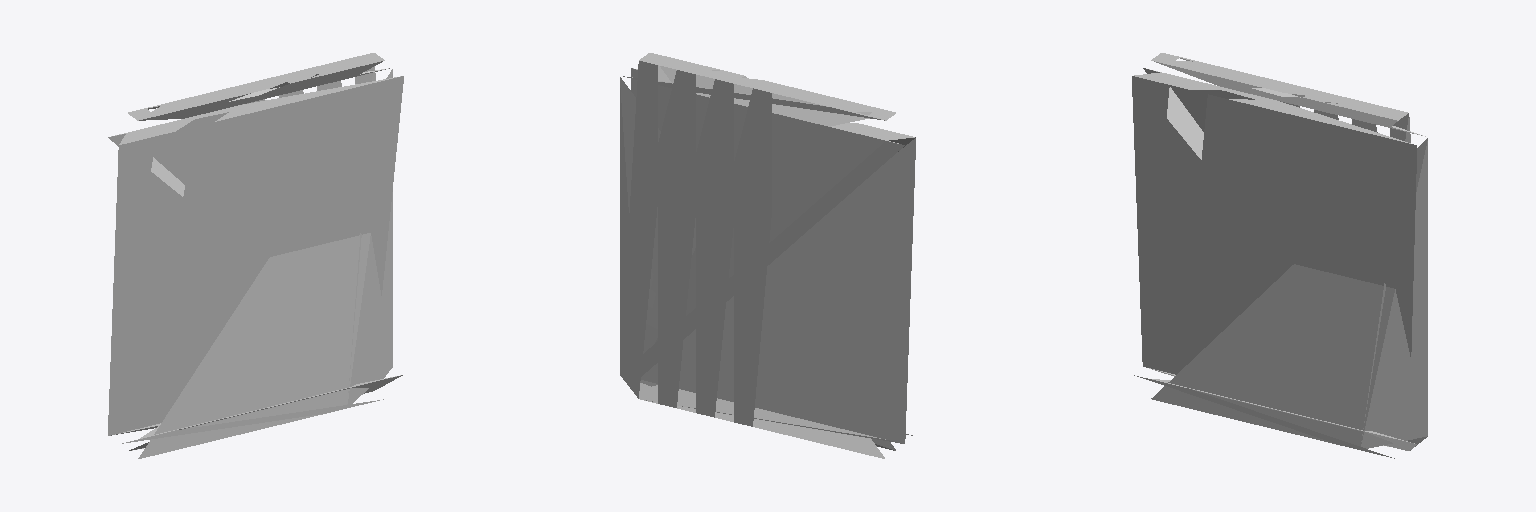
The model's file is Wall Art 2.obj.
The picture shows the model from 3 angles: view 1: azimuth 30°, elevation 25°; view 2: azimuth 150°, elevation 25°; view 3: azimuth 330°, elevation 25°; orthographic projection.
Size of the model in its own units: 15 by 17 by 1.